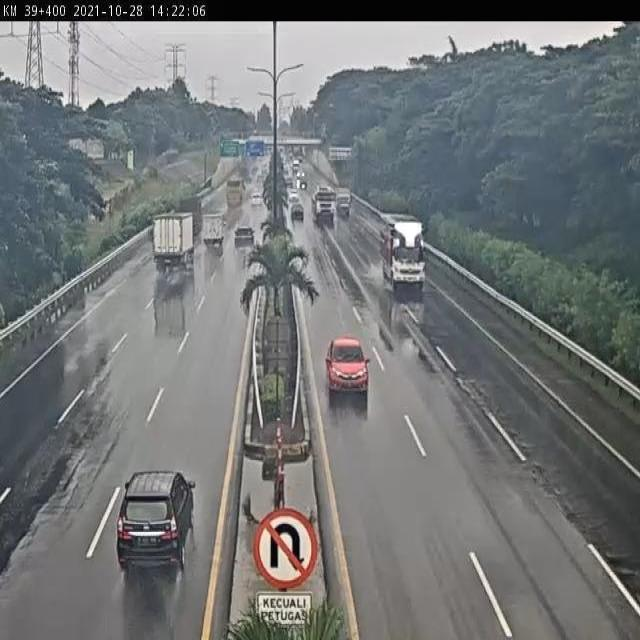Bus: (377, 210, 428, 298), (225, 175, 243, 212)
Car: (116, 466, 200, 589), (323, 334, 375, 407), (233, 224, 256, 250), (289, 202, 306, 226), (249, 193, 264, 207), (288, 188, 300, 200)
Truck: (152, 213, 196, 275), (200, 212, 227, 250), (312, 185, 336, 224), (335, 185, 354, 217)
